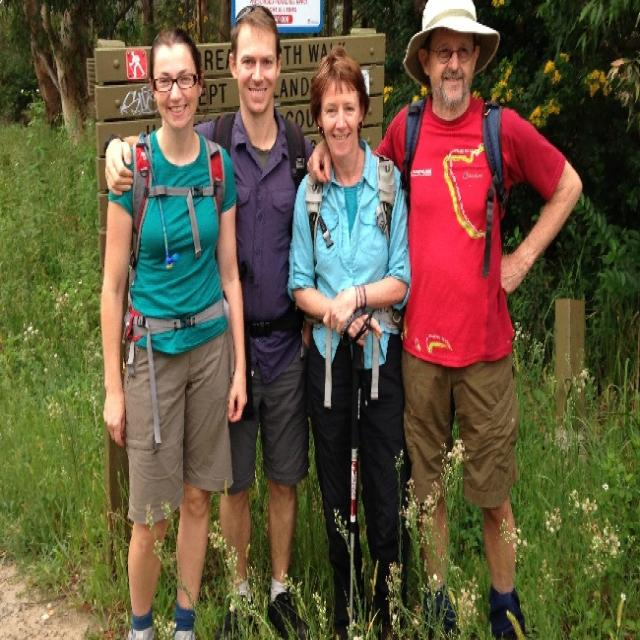body: (306, 0, 585, 639), (104, 3, 317, 640), (96, 22, 247, 638), (286, 44, 412, 638)
